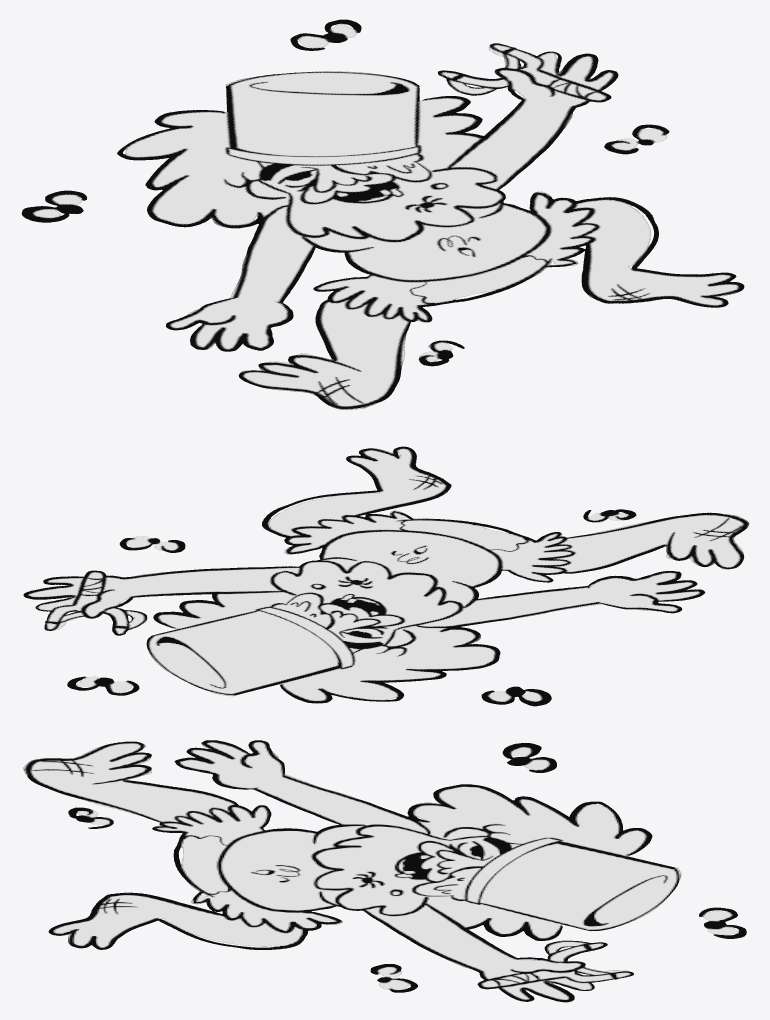
The model's file is Walking 1.fbx.
3 views of the same model, one above another, from view 1: azimuth 30°, elevation 25°; view 2: azimuth 150°, elevation 25°; view 3: azimuth 270°, elevation 25° (orthographic). The views are drawn at different scales.
Visible parts, largest first — view 1: Curve.001; view 2: Curve.001; view 3: Curve.001.
Boxes of the visible parts, x1,y1,x2,y2 form: Curve.001: (21,19,744,409); Curve.001: (23,446,749,706); Curve.001: (23,740,746,1002).
Size of the model in its own units: 82.07 by 0 by 96.07.
